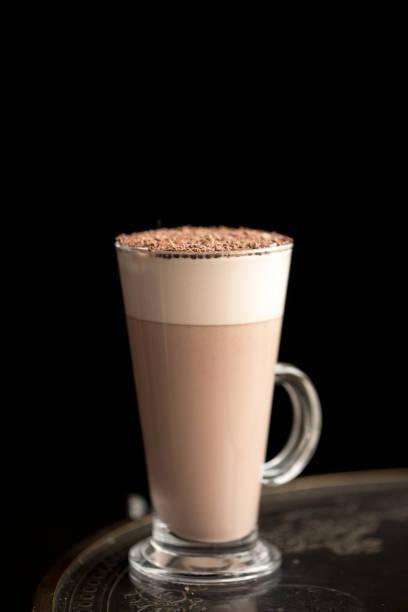glass-mug: (111, 221, 324, 592)
